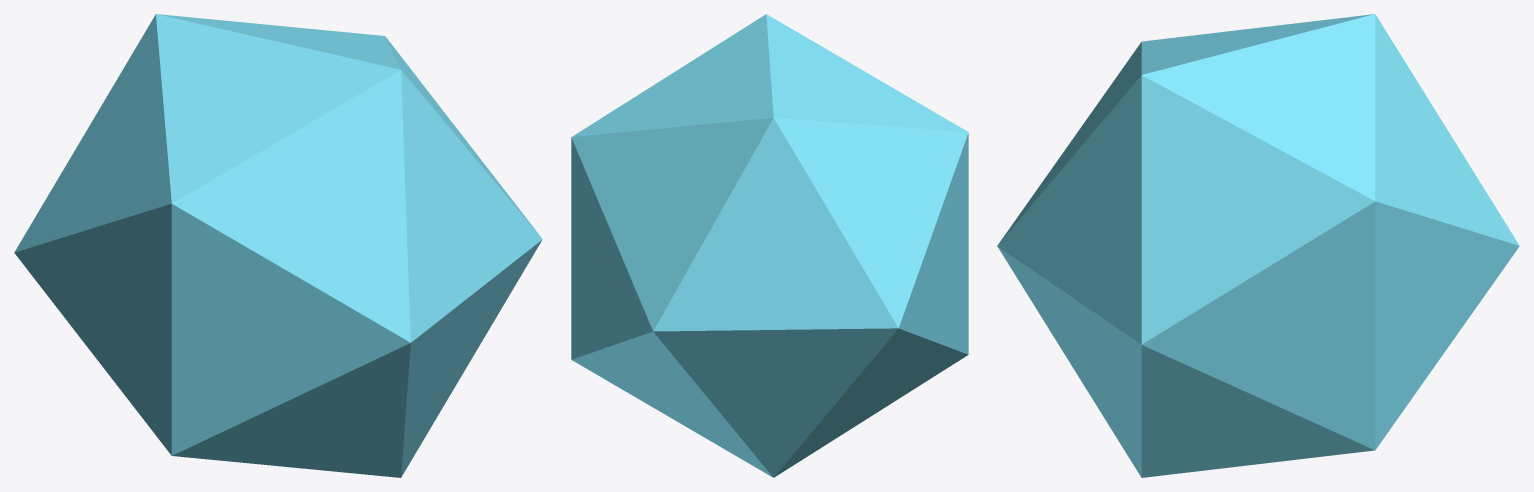
The model's file is orb1.glb.
The picture shows the model from 3 angles, left to right: view 1: azimuth 30°, elevation 25°; view 2: azimuth 150°, elevation 25°; view 3: azimuth 270°, elevation 25°; orthographic projection. The views are drawn at different scales.
Visible parts, largest first — view 1: orb1; view 2: orb1; view 3: orb1.
Boxes of the visible parts, <box> form: orb1: <box>14,14,542,477</box>; orb1: <box>571,14,968,477</box>; orb1: <box>997,14,1519,477</box>.
Size of the model in its own units: 0.3288 by 0.3127 by 0.3676.
1 material, 1 textured.
